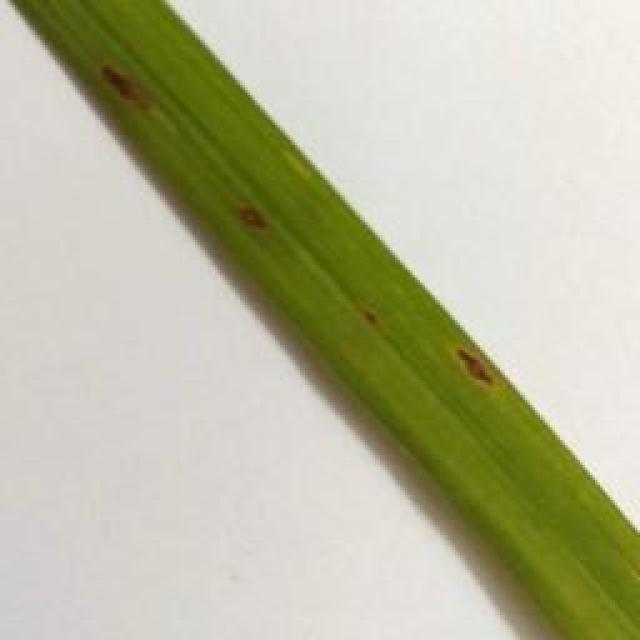Unhealthy: (97, 59, 158, 107), (453, 343, 495, 390), (235, 194, 276, 236), (363, 308, 379, 325)
